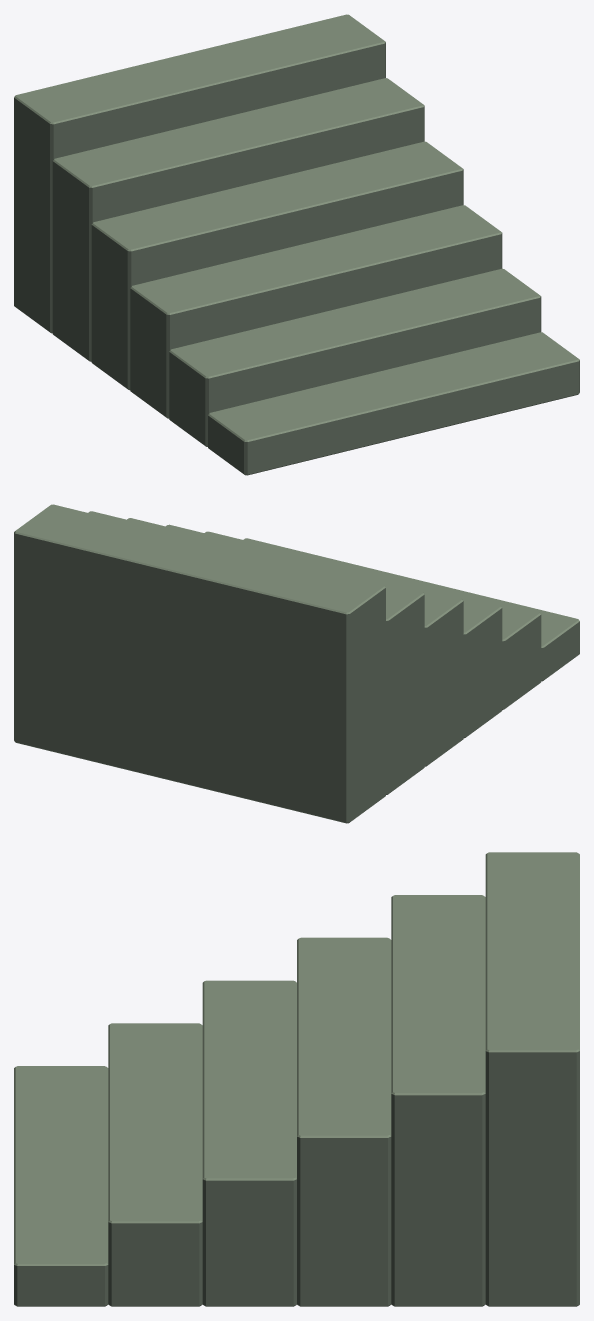
The model's file is stair-full.glb.
The picture shows the model from 3 angles, top to bottom: view 1: azimuth 30°, elevation 25°; view 2: azimuth 150°, elevation 25°; view 3: azimuth 270°, elevation 25°; orthographic projection. The views are drawn at different scales.
Visible parts, largest first — view 1: stair-full__body; view 2: stair-full__body; view 3: stair-full__body.
Boxes of the visible parts, left/top/right/bottom form: stair-full__body: left=14, top=14, right=579, bottom=475; stair-full__body: left=14, top=504, right=579, bottom=823; stair-full__body: left=14, top=852, right=579, bottom=1306.
Size of the model in its own units: 2 by 1.2 by 2.4.
